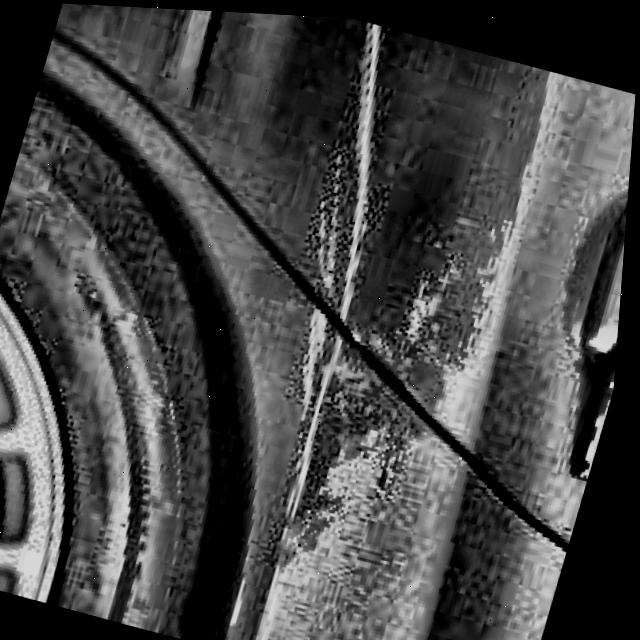door_scratch: (167, 11, 463, 640)
